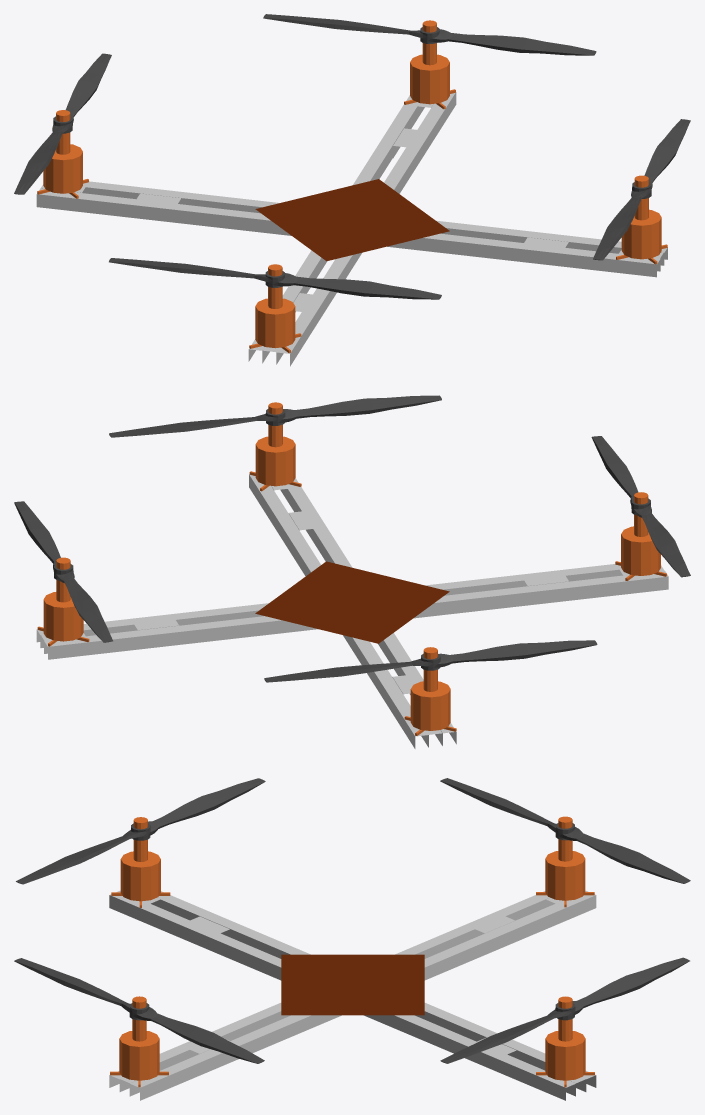
The model's file is drone.dae.
3 views of the same model, one above another, from view 1: azimuth 30°, elevation 25°; view 2: azimuth 150°, elevation 25°; view 3: azimuth 270°, elevation 25° (orthographic).
Parts seen in each view (by area): view 1: rodA1, Plane, rodA2, rodB2, prop1, prop3, rodB1, prop2, prop4, motor3, motor1, motor4 (+1 smaller); view 2: rodB1, Plane, rodA2, rodB2, prop2, prop4, rodA1, prop1, prop3, motor2, motor4, motor1 (+1 smaller); view 3: Plane, rodB2, rodA2, rodA1, rodB1, prop4, prop2, prop1, prop3, motor4, motor3, motor1 (+1 smaller).
Boxes of the visible parts, bbox=[...] form: rodA1: bbox=[36, 188, 660, 277]; Plane: bbox=[255, 179, 449, 261]; rodA2: bbox=[82, 181, 667, 265]; rodB2: bbox=[276, 92, 456, 366]; prop1: bbox=[263, 14, 596, 55]; prop3: bbox=[109, 258, 441, 299]; rodB1: bbox=[248, 95, 424, 363]; prop2: bbox=[14, 53, 111, 194]; prop4: bbox=[593, 119, 690, 260]; motor3: bbox=[249, 264, 301, 352]; motor1: bbox=[404, 20, 455, 109]; motor4: bbox=[616, 175, 667, 264]; rodB1: bbox=[44, 570, 668, 659]; Plane: bbox=[255, 561, 449, 643]; rodA2: bbox=[249, 474, 428, 748]; rodB2: bbox=[36, 564, 622, 647]; prop2: bbox=[264, 640, 597, 682]; prop4: bbox=[109, 395, 441, 437]; rodA1: bbox=[280, 478, 456, 745]; prop1: bbox=[14, 501, 112, 642]; prop3: bbox=[591, 436, 690, 577]; motor2: bbox=[404, 647, 456, 735]; motor4: bbox=[249, 402, 301, 491]; motor1: bbox=[37, 557, 89, 646]; Plane: bbox=[281, 954, 424, 1015]; rodB2: bbox=[109, 891, 575, 1100]; rodA2: bbox=[129, 891, 596, 1100]; rodA1: bbox=[109, 891, 549, 1091]; rodB1: bbox=[157, 891, 596, 1091]; prop4: bbox=[14, 958, 264, 1063]; prop2: bbox=[440, 778, 690, 883]; prop1: bbox=[440, 957, 689, 1063]; prop3: bbox=[16, 778, 265, 884]; motor4: bbox=[110, 996, 168, 1087]; motor3: bbox=[111, 817, 170, 907]; motor1: bbox=[536, 996, 594, 1087].
Size of the model in its own units: 4.71 by 4.72 by 0.6801.
